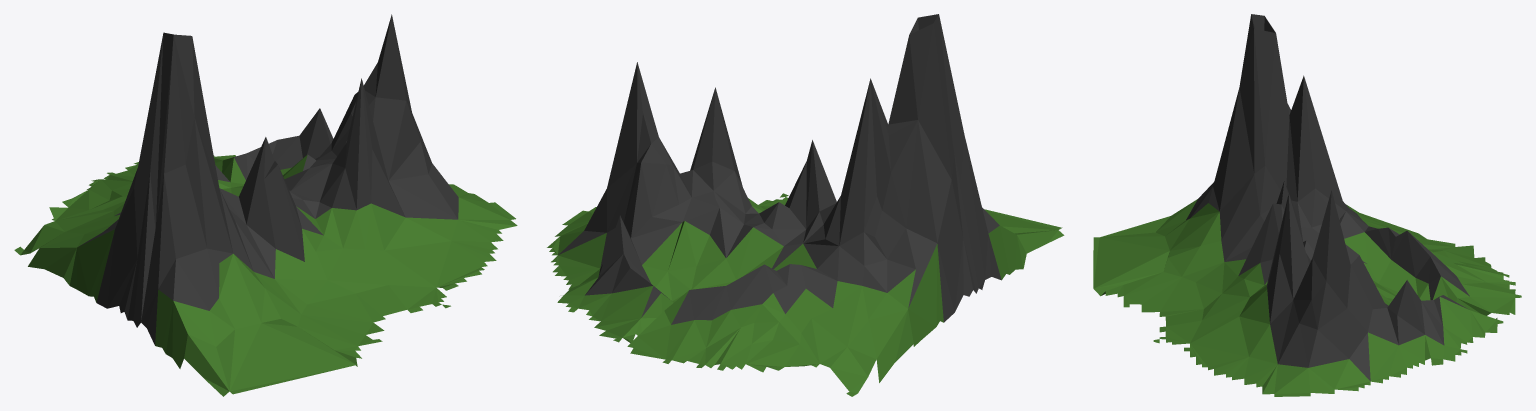
Rendered from Mountain8_low.fbx.
3 views of the same model, side by side, from view 1: azimuth 30°, elevation 25°; view 2: azimuth 150°, elevation 25°; view 3: azimuth 270°, elevation 25° (orthographic). The views are drawn at different scales.
Visible parts, largest first — view 1: Plane.025; view 2: Plane.025; view 3: Plane.025.
Boxes of the visible parts, left/top/right/bottom form: Plane.025: left=14, top=14, right=517, bottom=396; Plane.025: left=547, top=14, right=1064, bottom=396; Plane.025: left=1093, top=14, right=1521, bottom=396.
Size of the model in its own units: 1169 by 837 by 1291.
